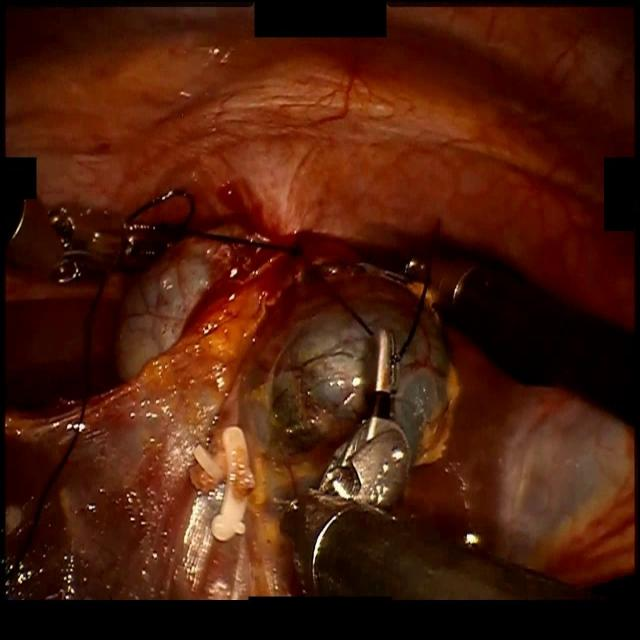surgical-area: (4, 2, 638, 599)
surgical-tool: (279, 329, 620, 604), (354, 240, 638, 434), (6, 197, 184, 284)
